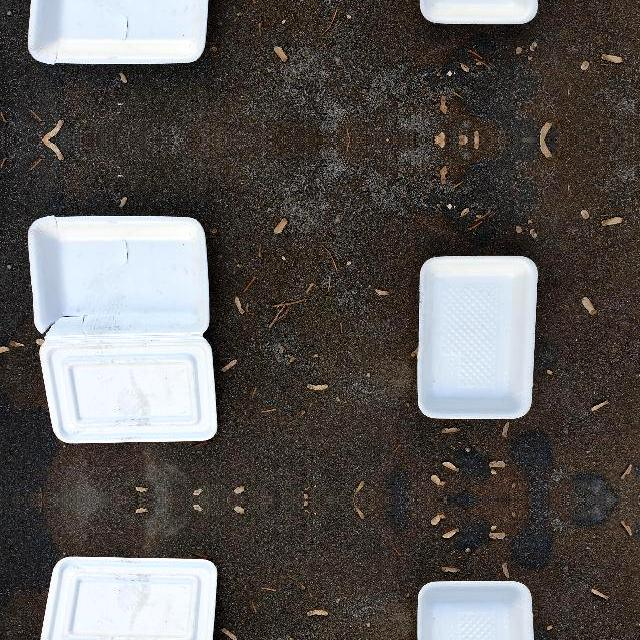Styrofoam: (26, 216, 218, 444), (27, 216, 217, 443), (418, 256, 539, 419), (419, 255, 538, 419), (26, 555, 218, 640), (40, 557, 217, 640), (26, 0, 218, 64), (27, 0, 208, 64), (419, 581, 538, 640), (418, 581, 535, 640)
